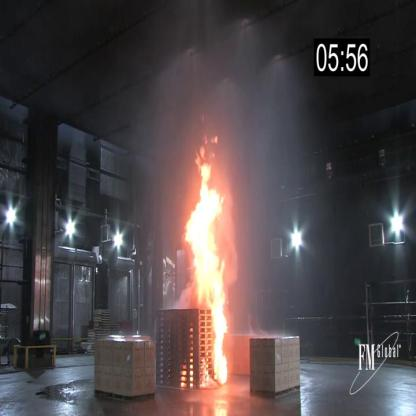fire: (182, 159, 239, 389)
